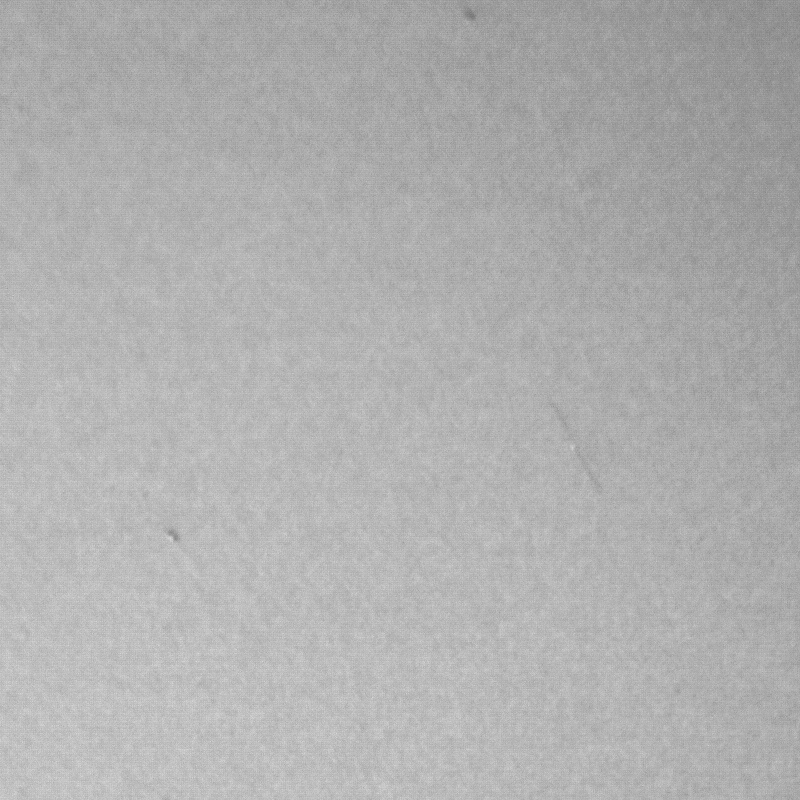defect: (555, 402, 614, 503), (153, 519, 191, 566), (457, 1, 475, 20)
